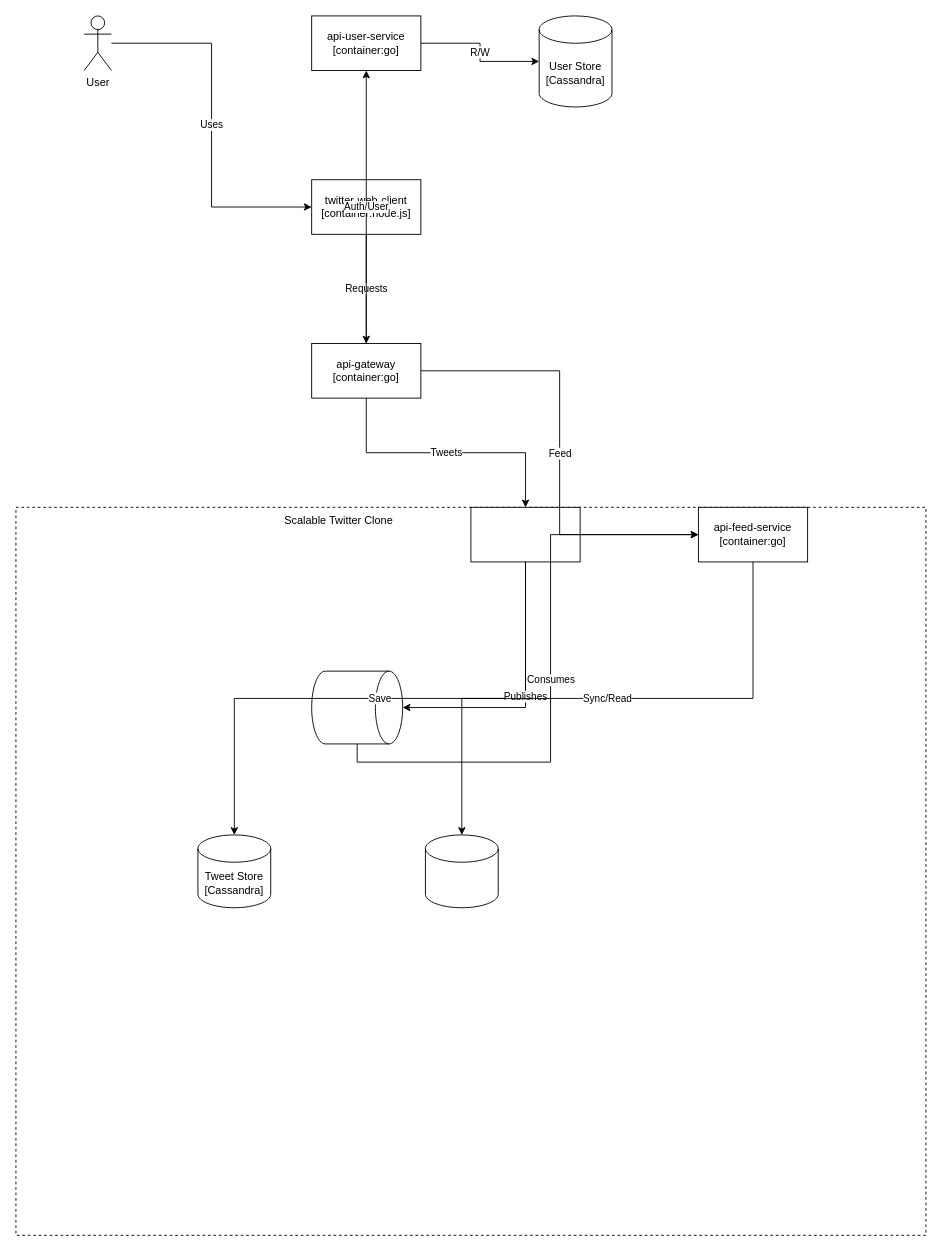
Image size: 942x1251. Some labels were removed from this diagram. Here are the shapes that lost their labels. From the top down, the centre of each, then its label:
the point at 525,534: api-tweet-service [container:go]
the point at 357,707: Tweet Bus [Kafka]
the point at 461,871: Feed Cache [Redis]
